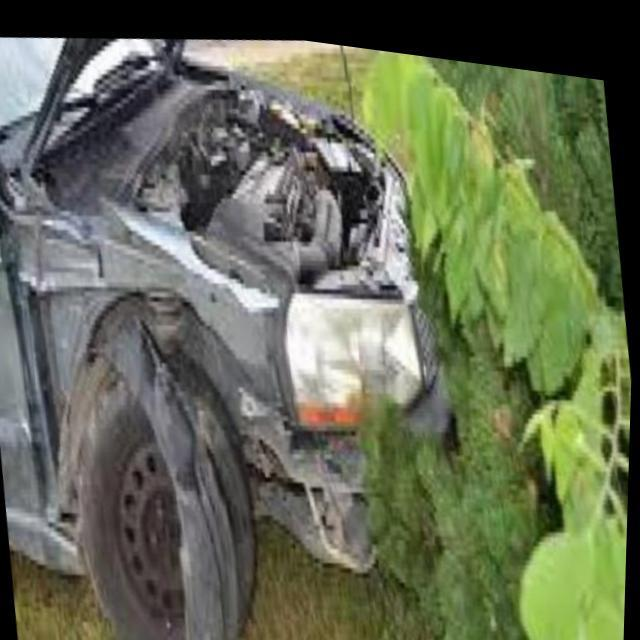no part: (0, 152, 460, 640)
